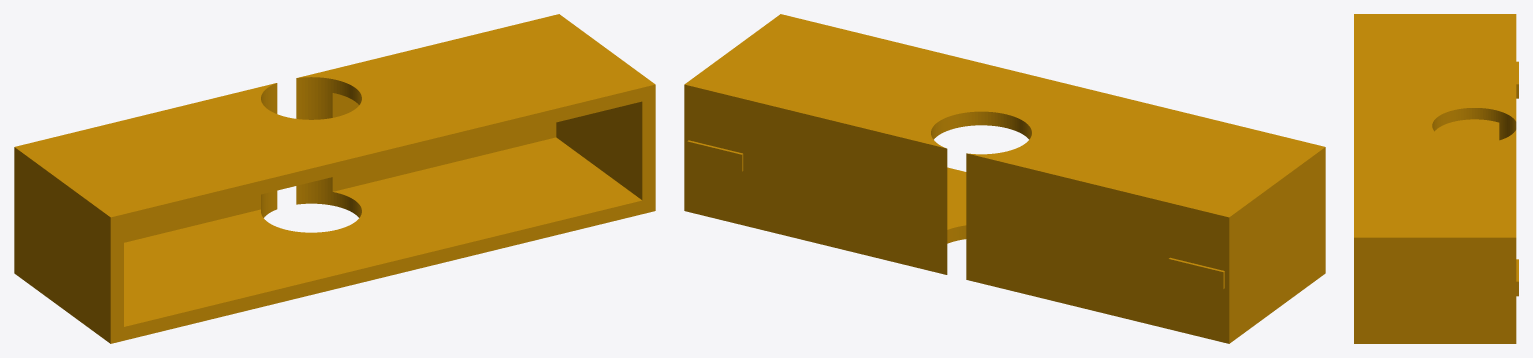
Rendered from ali_inserto_dosis.glb.
The picture shows the model from 3 angles, left to right: view 1: azimuth 30°, elevation 25°; view 2: azimuth 150°, elevation 25°; view 3: azimuth 270°, elevation 25°; orthographic projection. The views are drawn at different scales.
Parts seen in each view (by area): view 1: world; view 2: world; view 3: world.
Part boxes in pixels (x1=…): world: x1=14, y1=14, x2=655, y2=343; world: x1=684, y1=14, x2=1325, y2=343; world: x1=1354, y1=14, x2=1518, y2=343.
Size of the model in its own units: 99.6 by 22.1 by 31.
